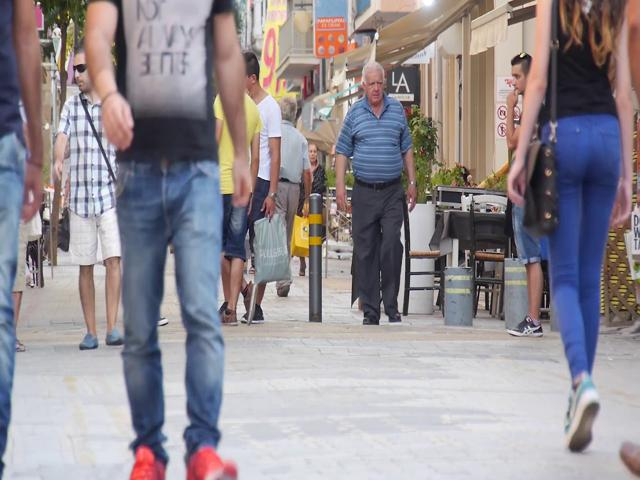shoe: (564, 379, 600, 452), (185, 448, 238, 479), (131, 447, 166, 479), (506, 317, 543, 336), (241, 306, 266, 323), (78, 333, 99, 350), (104, 328, 122, 345)
